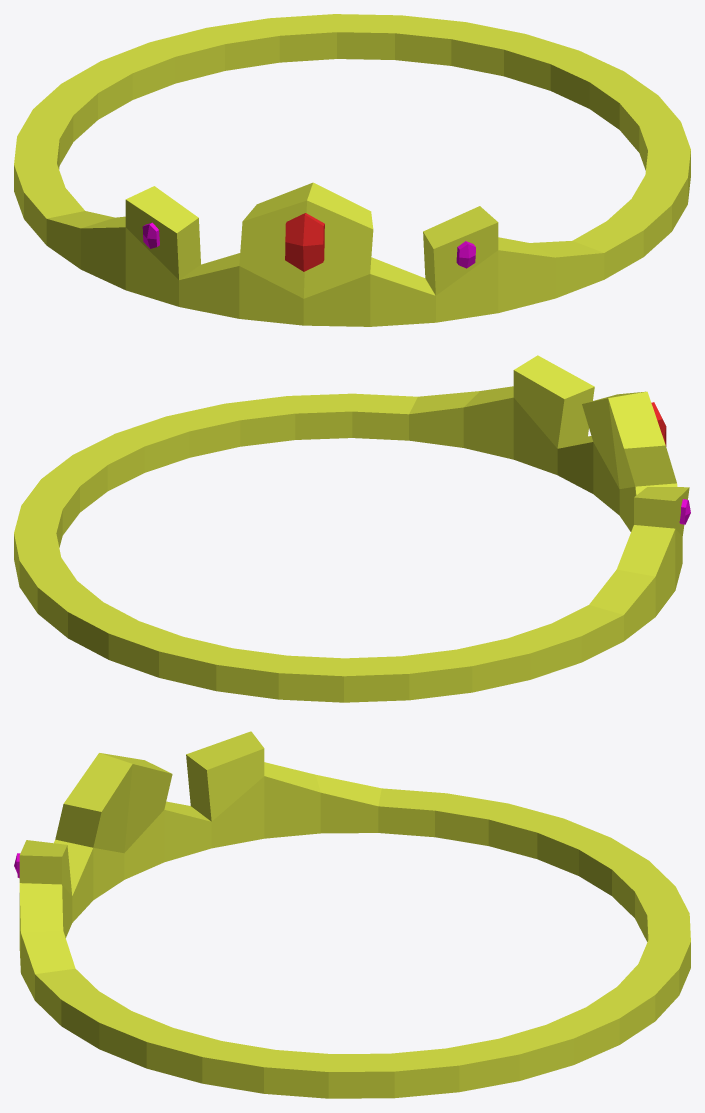
Rendered from corona.fbx.
The picture shows the model from 3 angles, top to bottom: view 1: azimuth 30°, elevation 25°; view 2: azimuth 150°, elevation 25°; view 3: azimuth 270°, elevation 25°; orthographic projection.
Parts seen in each view (by area): view 1: corona.001; view 2: corona.001; view 3: corona.001.
Boxes of the visible parts, x1,y1,x2,y2 form: corona.001: (14, 14, 690, 326); corona.001: (14, 355, 690, 702); corona.001: (14, 731, 690, 1098).
Size of the model in its own units: 136 by 26.75 by 137.
